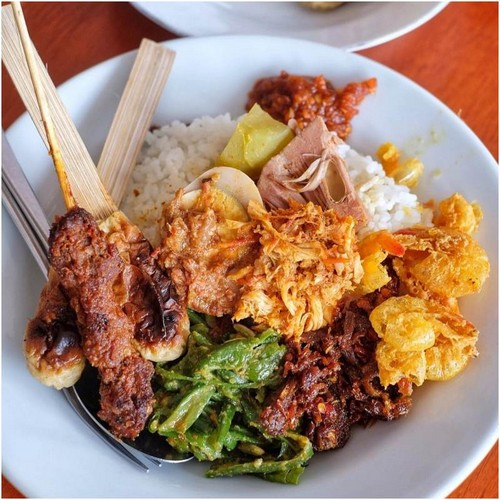nasi campur bali: (56, 123, 481, 389)
